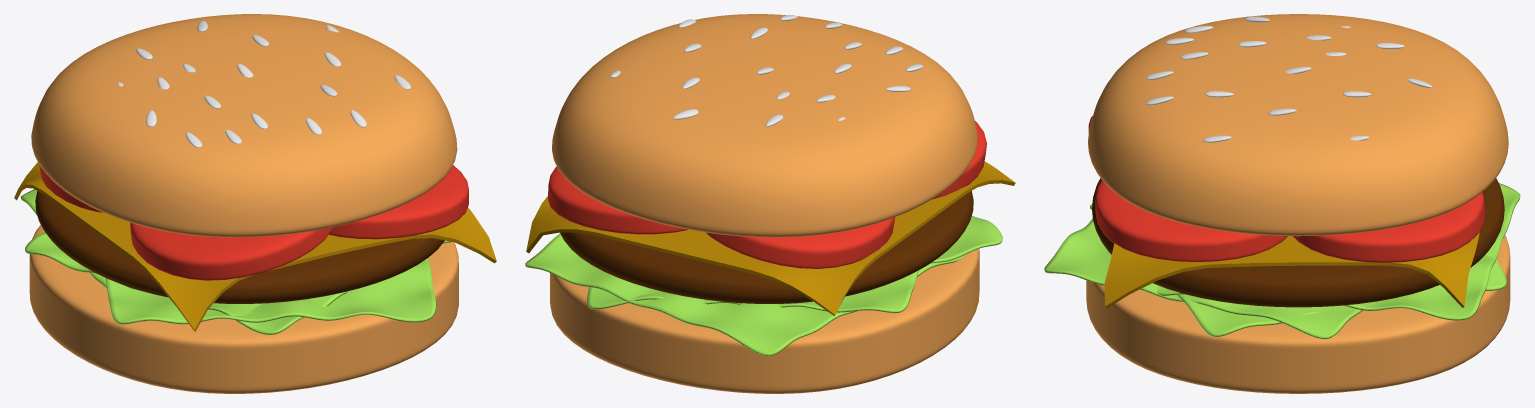
File: hamburger.glb
The picture shows the model from 3 angles, left to right: view 1: azimuth 30°, elevation 25°; view 2: azimuth 150°, elevation 25°; view 3: azimuth 270°, elevation 25°; orthographic projection.
Visible parts, largest first — view 1: Top Bun, Bottom Bun, Meat, Lettuce.001, Cheese, Tomatoe.001, Tomatoe, Lettuce, Tomatoe.003; view 2: Top Bun, Bottom Bun, Meat, Cheese, Lettuce.002, Tomatoe.003, Tomatoe.002, Lettuce, Lettuce.001, Tomatoe.001; view 3: Top Bun, Bottom Bun, Meat, Cheese, Tomatoe, Tomatoe.002, Lettuce.001, Lettuce.002, Lettuce.
Part boxes in pixels (x1,y1,x2,y2): Top Bun: (31, 14, 457, 237); Bottom Bun: (29, 225, 458, 393); Meat: (35, 191, 444, 303); Lettuce.001: (105, 259, 436, 324); Cheese: (14, 162, 496, 331); Tomatoe.001: (130, 222, 332, 280); Tomatoe: (329, 165, 468, 239); Lettuce: (25, 232, 451, 334); Tomatoe.003: (39, 165, 102, 212); Top Bun: (552, 14, 977, 237); Bottom Bun: (550, 233, 979, 393); Meat: (560, 191, 973, 303); Cheese: (526, 161, 1015, 315); Lettuce.002: (525, 233, 964, 356); Tomatoe.003: (705, 217, 894, 268); Tomatoe.002: (547, 166, 688, 234); Lettuce: (587, 270, 918, 313); Lettuce.001: (931, 215, 1002, 263); Tomatoe.001: (932, 121, 986, 199); Top Bun: (1088, 14, 1508, 236); Bottom Bun: (1086, 235, 1510, 393); Meat: (1092, 178, 1504, 307); Cheese: (1104, 231, 1479, 308); Tomatoe: (1095, 180, 1287, 261); Tomatoe.002: (1293, 192, 1485, 262); Lettuce.001: (1044, 218, 1362, 339); Lettuce.002: (1157, 183, 1520, 320); Lettuce: (1090, 204, 1506, 336).
Bounding box in the file's own units: 9.03 × 5.82 × 10.13.
